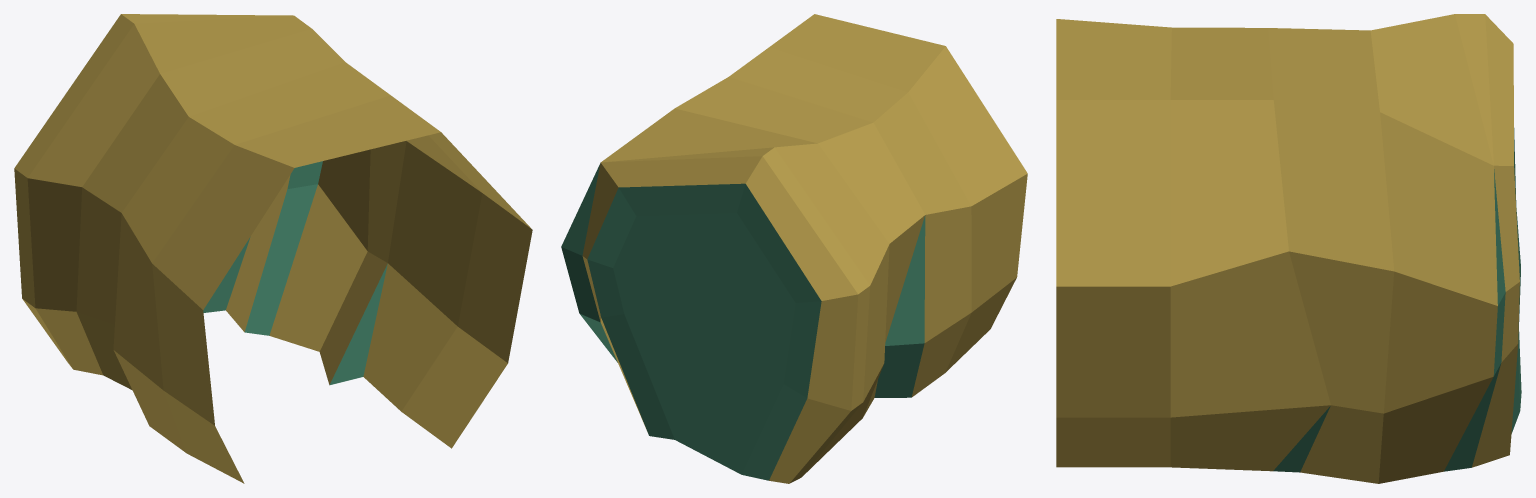
Rendered from Cliff_5_A.fbx.
3 renders of one model, left to right at view 1: azimuth 30°, elevation 25°; view 2: azimuth 150°, elevation 25°; view 3: azimuth 270°, elevation 25°, orthographic. The views are drawn at different scales.
Visible parts, largest first — view 1: Cliff_5_A.001; view 2: Cliff_5_A.001; view 3: Cliff_5_A.001.
Part boxes in pixels (x1,y1,x2,y2): Cliff_5_A.001: (14, 14, 532, 483); Cliff_5_A.001: (561, 14, 1027, 483); Cliff_5_A.001: (1056, 14, 1521, 483).
Size of the model in its own units: 6.97 by 7.01 by 7.51.
